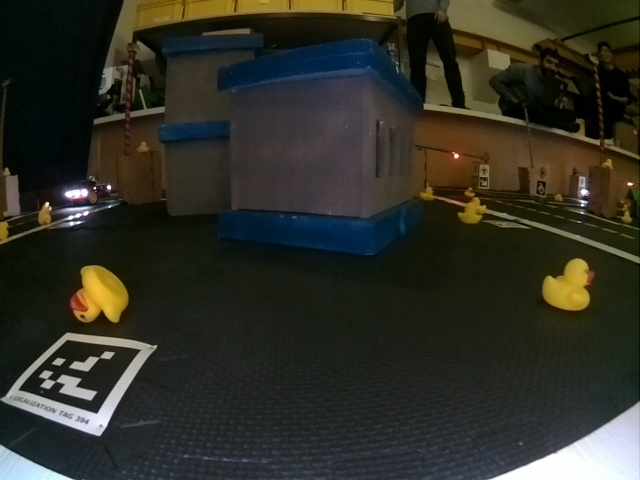Duckie: (72, 265, 126, 322), (542, 262, 594, 312), (458, 204, 481, 224), (38, 202, 52, 224), (420, 187, 434, 200), (135, 140, 149, 152), (602, 158, 612, 168), (623, 212, 631, 222)
Duckiebot: (65, 181, 110, 205), (581, 187, 591, 200)
Intersection sign: (538, 166, 548, 178), (481, 166, 489, 176)
QR code: (4, 334, 155, 435), (490, 218, 525, 228), (537, 181, 545, 196), (480, 178, 489, 187)
Traffic light: (453, 151, 460, 161)
